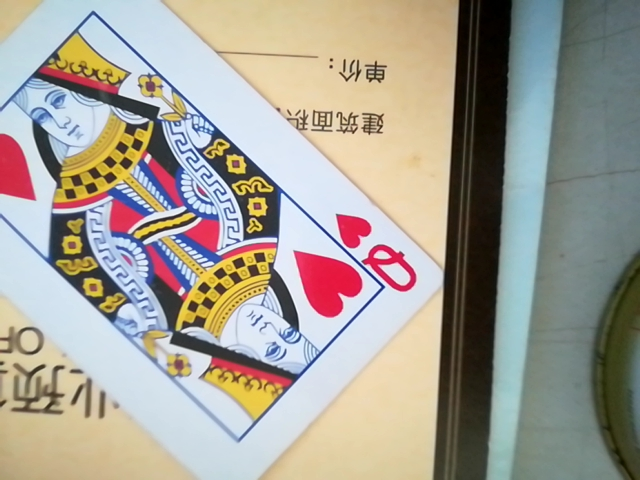hx q: (0, 1, 461, 480)
